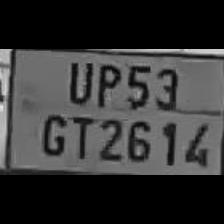1: (154, 116, 178, 166)
2: (94, 114, 122, 162)
3: (151, 62, 181, 112)
4: (179, 115, 211, 167)
5: (120, 58, 152, 110)
6: (124, 115, 152, 163)
G: (37, 110, 67, 158)
P: (92, 58, 120, 108)
T: (68, 111, 94, 160)
U: (63, 56, 93, 104)
